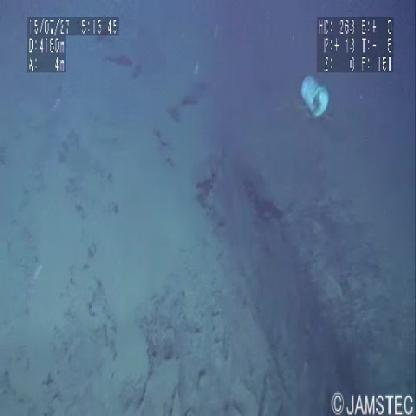Rác: (300, 76, 330, 116)
